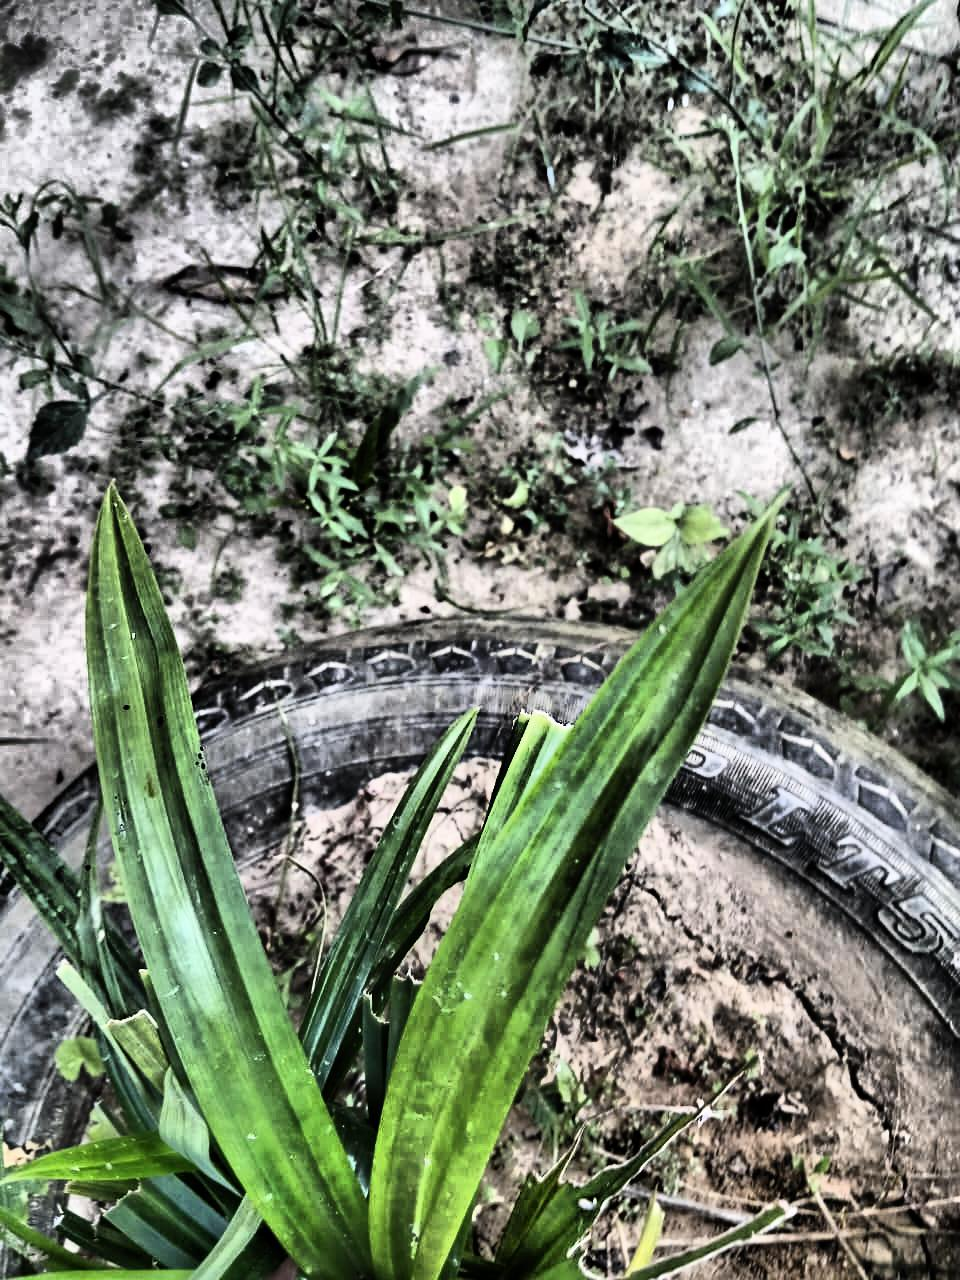daun pandan: (0, 487, 779, 1279)
